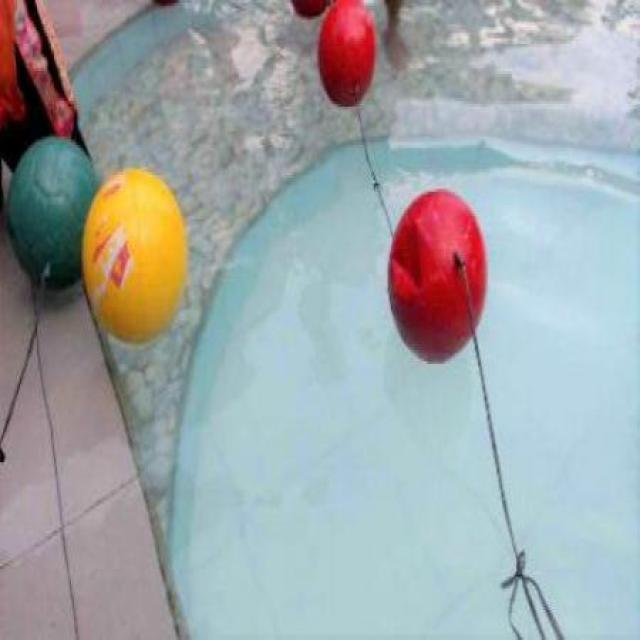buoy: (80, 165, 188, 344), (386, 187, 487, 365), (5, 134, 100, 293), (316, 0, 377, 107)
